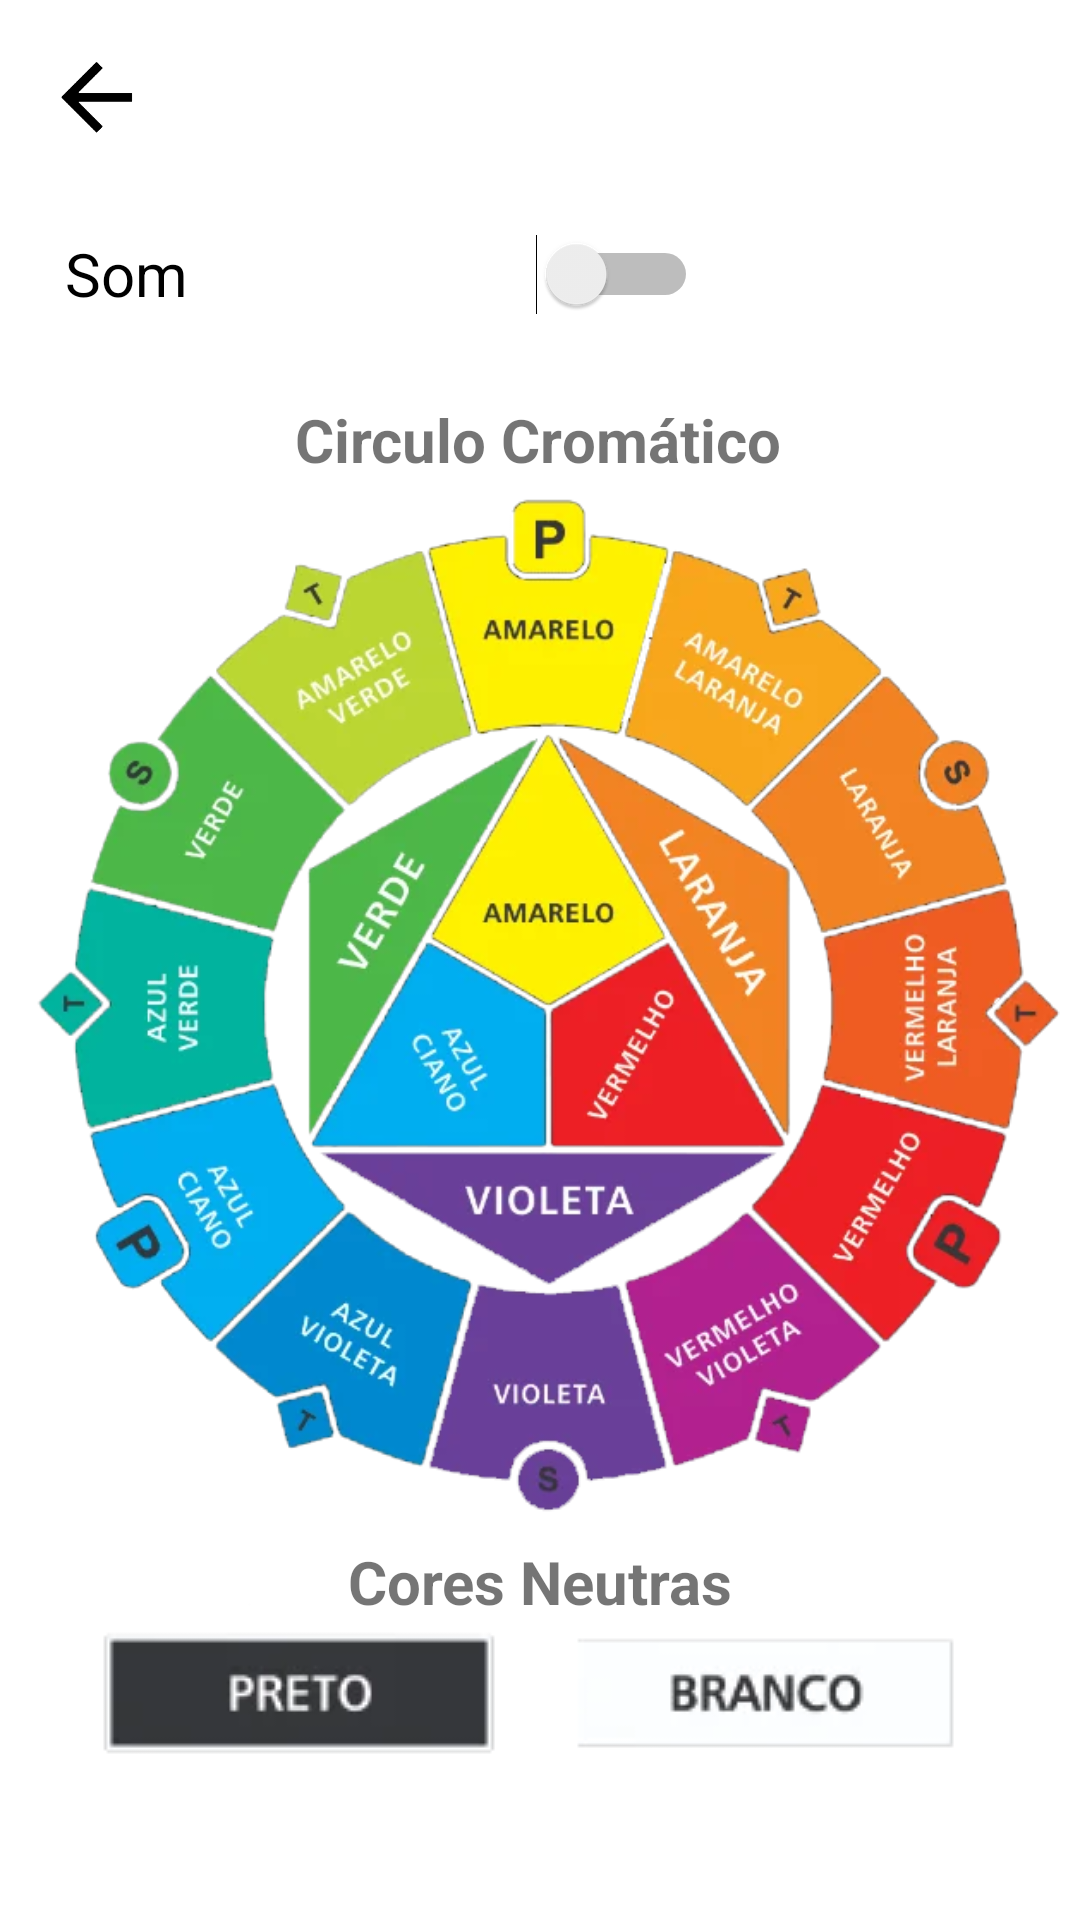

Point at icon controls on the screen. Image size 1080 × 1920, points as point (x, y).
voltarp: point (96, 97)
